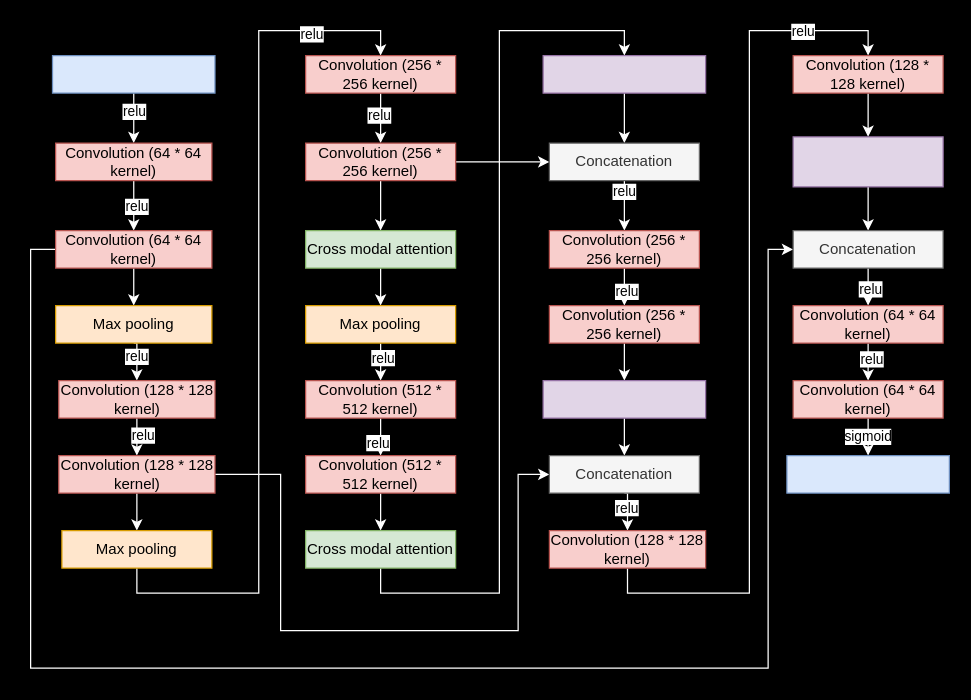
The diagram is 971 pixels wide and 700 high, and some of its shapes have lost their labels. The centre of each missing label's shape, as x and y in pixels:
"Input image (256 * 256)" belongs at point (133, 73).
"Output image" belongs at point (867, 473).
"Up sampling (128 * 128 kernel, 2 * 2 stride" belongs at point (624, 398).
"Up sampling (256 * 256 kernel, 2 * 2 stride)" belongs at point (624, 73).
"Up sampling (64 * 64 kernel, 2 * 2 stride)" belongs at point (867, 161).
